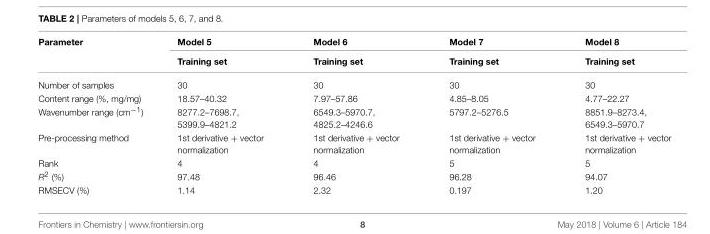table: (37, 37, 670, 194)
table column: (287, 37, 423, 194), (423, 37, 559, 194), (159, 37, 287, 194), (37, 37, 159, 194), (559, 37, 670, 194)
table column header: (37, 37, 670, 73)
table row: (37, 104, 670, 130), (37, 130, 670, 156), (37, 51, 670, 73), (37, 73, 670, 91), (37, 168, 670, 183), (37, 37, 670, 51), (37, 91, 670, 104), (37, 156, 670, 168), (37, 183, 670, 194)
table spanning cell: (287, 37, 423, 73), (423, 37, 559, 73), (159, 37, 287, 73), (37, 37, 159, 73), (559, 37, 670, 73)
